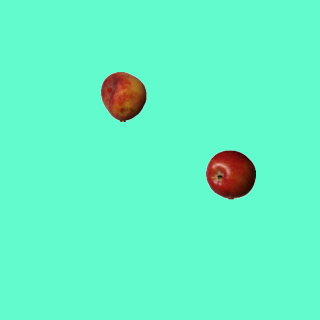Apple Braeburn: (205, 149, 255, 199)
Peach: (98, 71, 148, 121)
